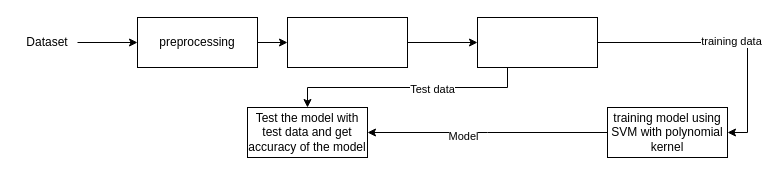
The diagram is 778 pixels wide and 175 high, and some of its shapes have lost their labels. The shapes that lost their labels are listed below. From the top down, each one's centre as x and y in pixels, then its label:
(x=347, y=42): feature extraction using hog
(x=537, y=42): Split the data into training and test
